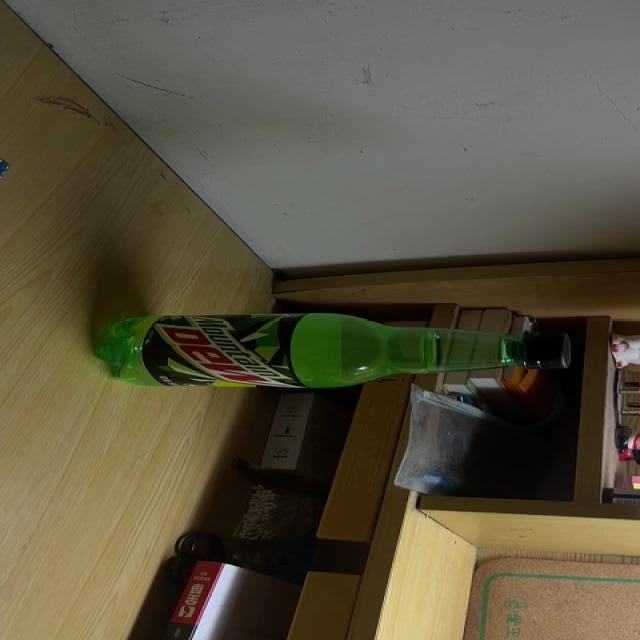Mountain-Dew: (90, 312, 572, 390)
